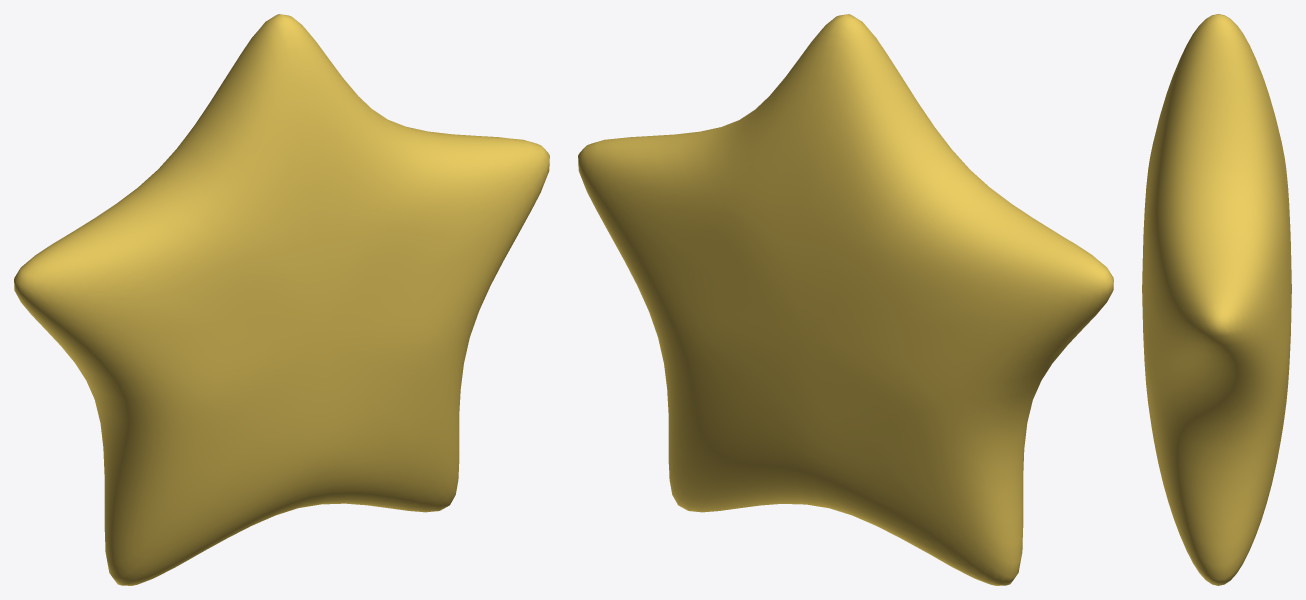
Rendered from star-icon-min.glb.
3 views of the same model, side by side, from view 1: azimuth 30°, elevation 25°; view 2: azimuth 150°, elevation 25°; view 3: azimuth 270°, elevation 25° (orthographic). The views are drawn at different scales.
Parts seen in each view (by area): view 1: Star; view 2: Star; view 3: Star.
Part boxes in pixels (box(x1,y1,x2,y2)): Star: box(14, 14, 549, 585); Star: box(578, 14, 1113, 585); Star: box(1142, 14, 1291, 585).
Bounding box in the file's own units: 2.62 × 2.51 × 0.6834.
